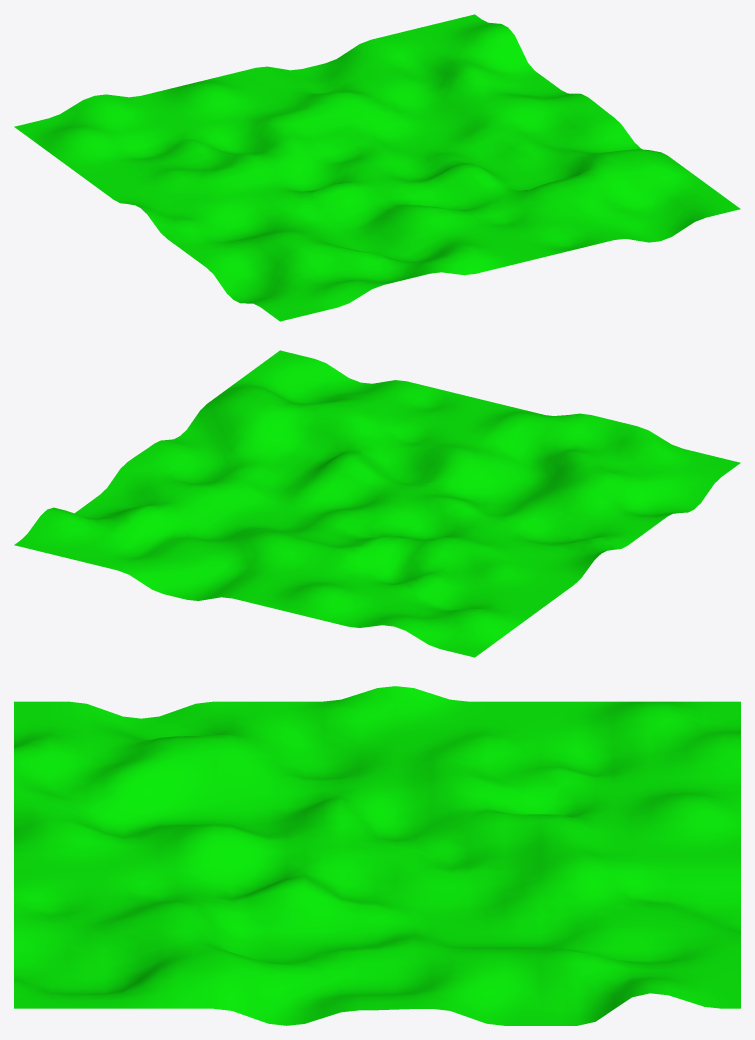
The model's file is Ground.fbx.
3 views of the same model, one above another, from view 1: azimuth 30°, elevation 25°; view 2: azimuth 150°, elevation 25°; view 3: azimuth 270°, elevation 25° (orthographic). The views are drawn at different scales.
Parts seen in each view (by area): view 1: pPlane1; view 2: pPlane1; view 3: pPlane1.
Boxes of the visible parts, <box> form: pPlane1: <box>14,14,740,321</box>; pPlane1: <box>14,350,740,657</box>; pPlane1: <box>14,686,740,1025</box>.
Size of the model in its own units: 50 by 2.47 by 50.
